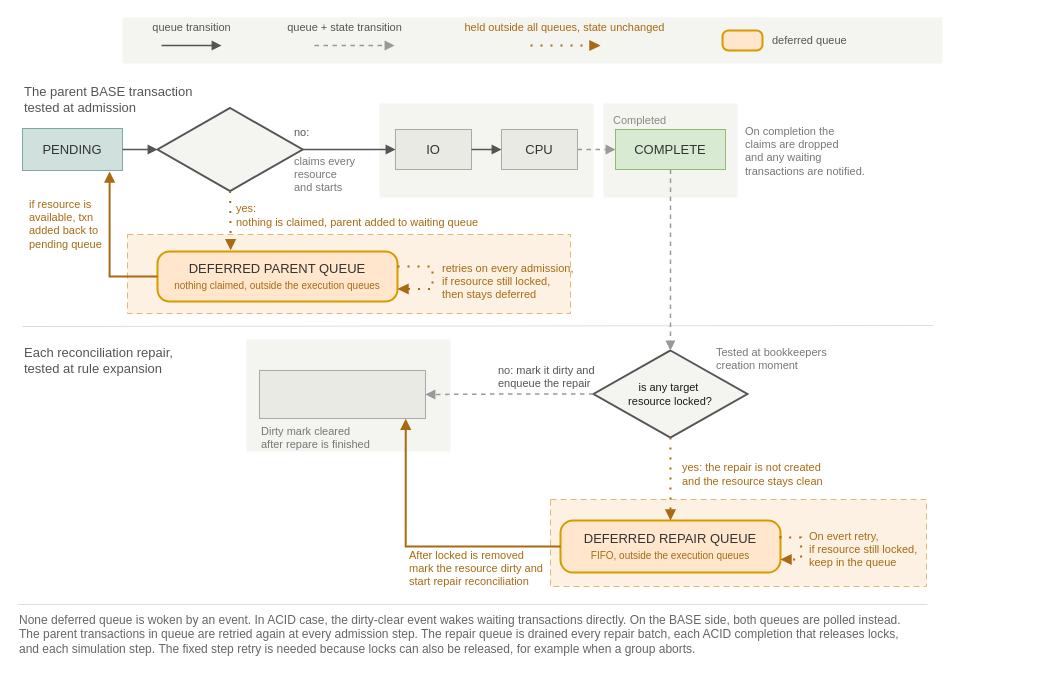
This 1055x673 diagram has some shape labels left out. The shapes that lost their labels are listed below. From the top down, each one's box as (x1, y1, x2, y2) in pixels, then its label:
(156, 106, 303, 192): any resource locked by ACID?
(379, 103, 593, 197): Running
(258, 370, 426, 418): RECONCILIATION
(246, 339, 450, 451): Background worker
